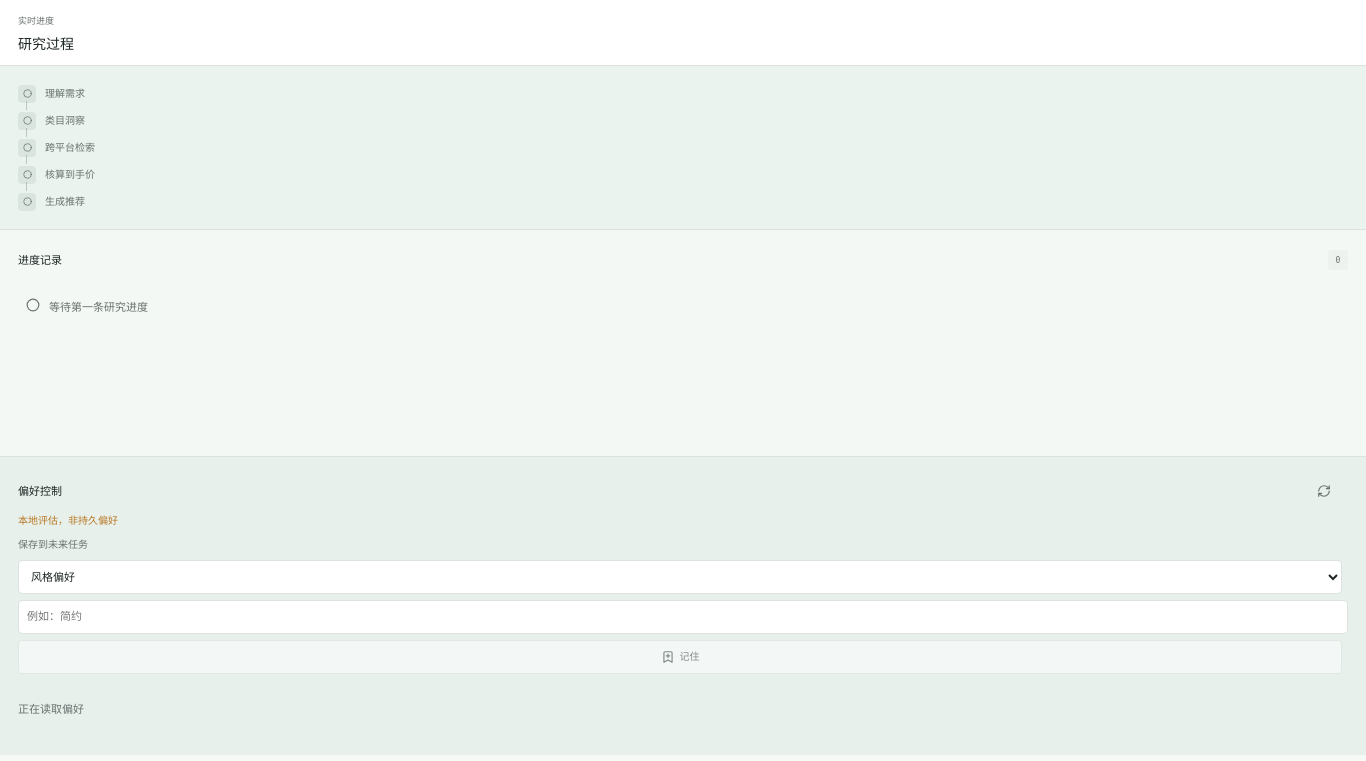
Test case: ActivityRail timeline › lets the shopper explicitly remember a preference and reports local durability
The width and height of the screenshot is (1366, 761).
Expected: the text "本地评估，非持久偏好" is shown, x1=18 y1=513 x2=118 y2=527
Type "简约" into the field named "偏好值". click: (683,617)
box: x1=18 y1=600 x2=1348 y2=634
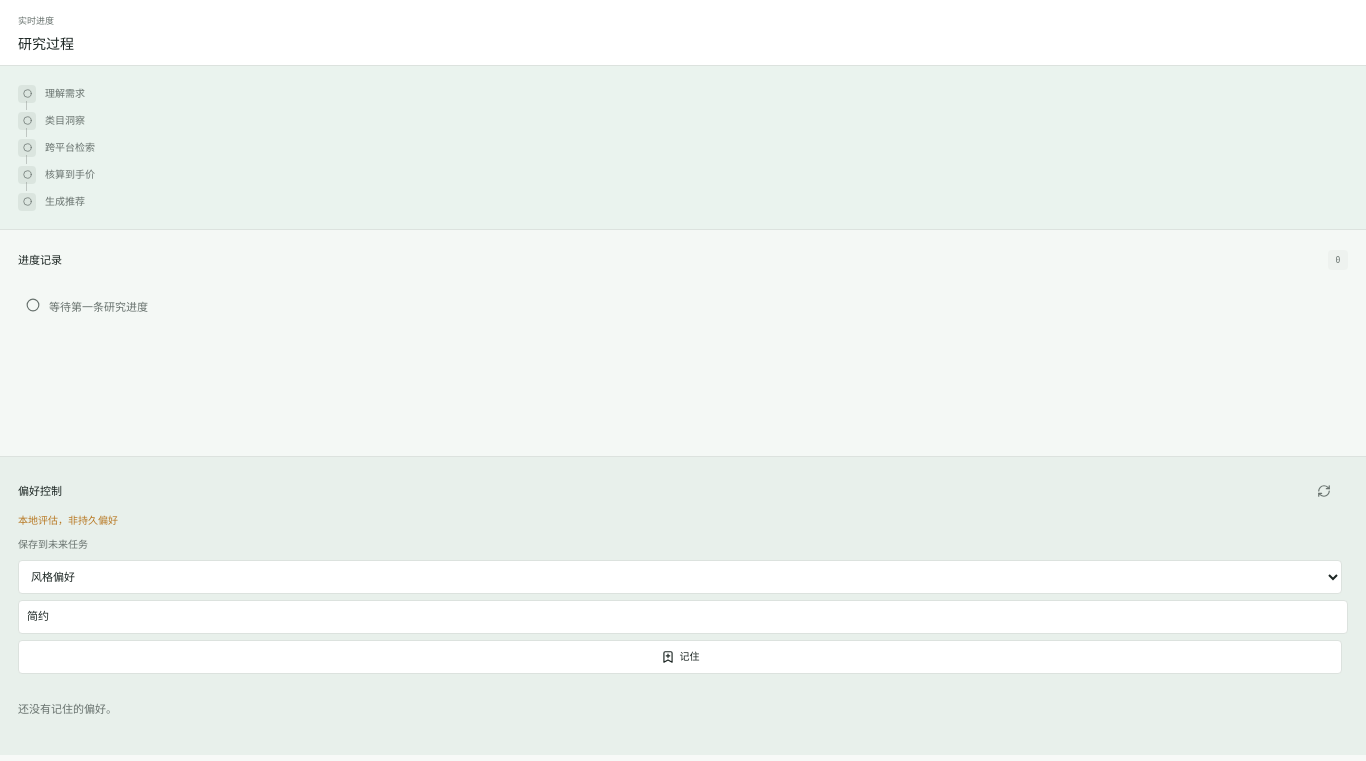
Click the button with aria-label "明确记住偏好". click: (680,657)
box: x1=18 y1=640 x2=1342 y2=674
(page scrolled)
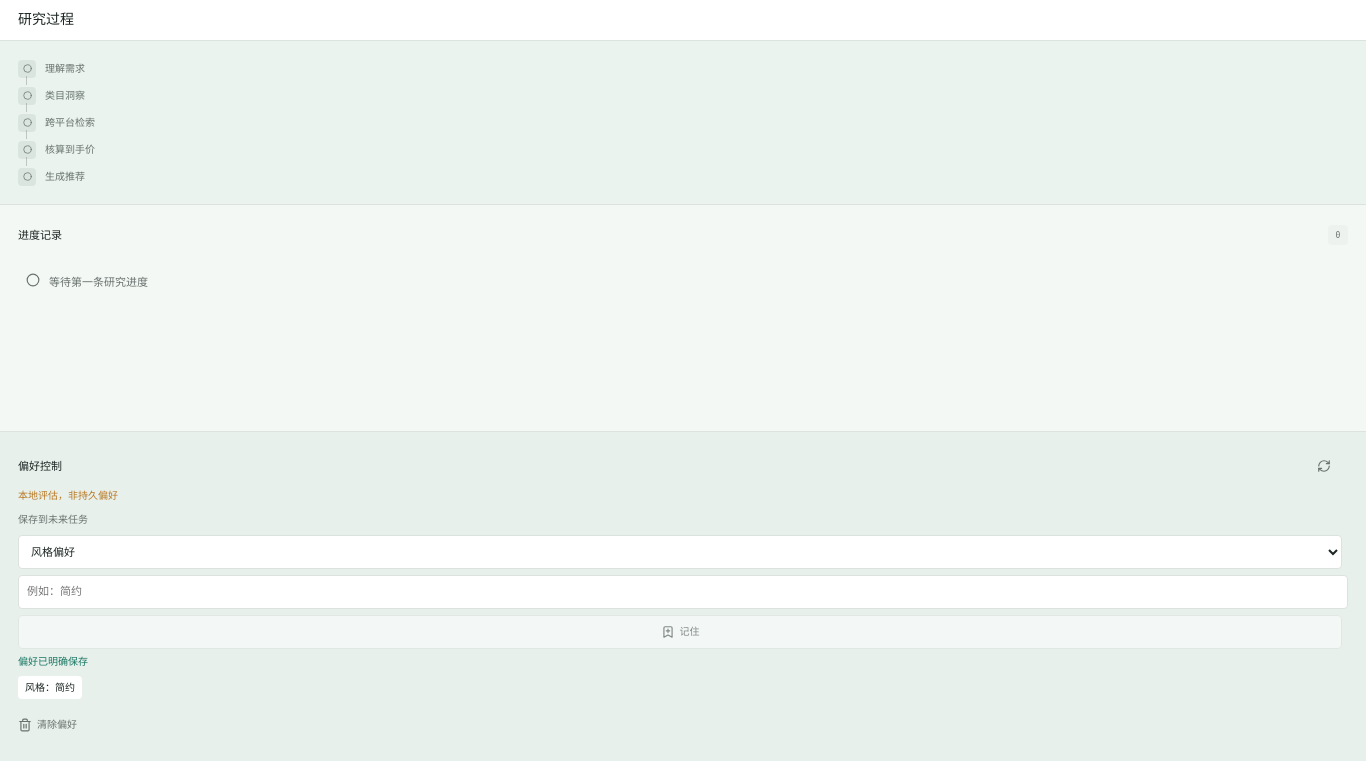
Now the text "偏好已明确保存" is shown, box x1=18 y1=654 x2=88 y2=668
Click the button "清除偏好". click: (48,725)
box: x1=18 y1=705 x2=77 y2=745
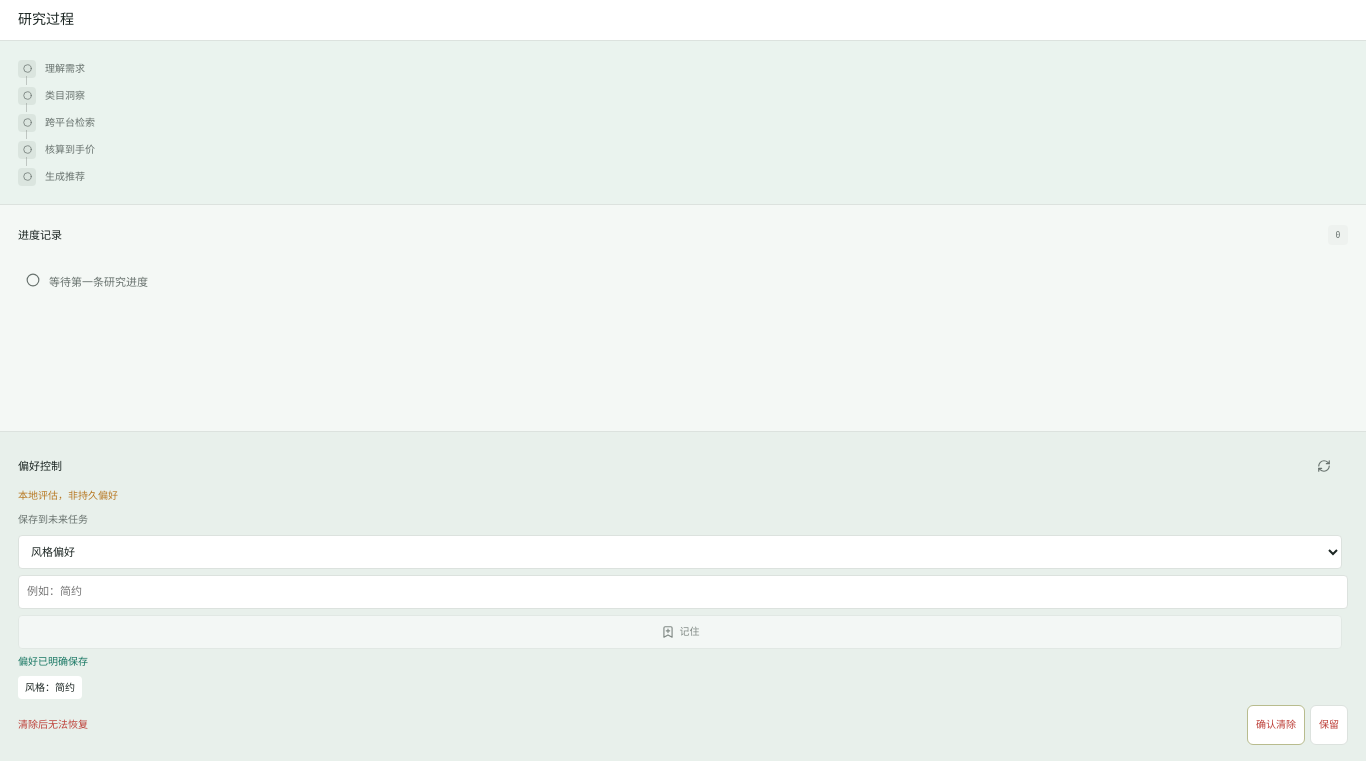
Click the button "确认清除". click: (1276,725)
box: x1=1247 y1=705 x2=1305 y2=745
(page scrolled)
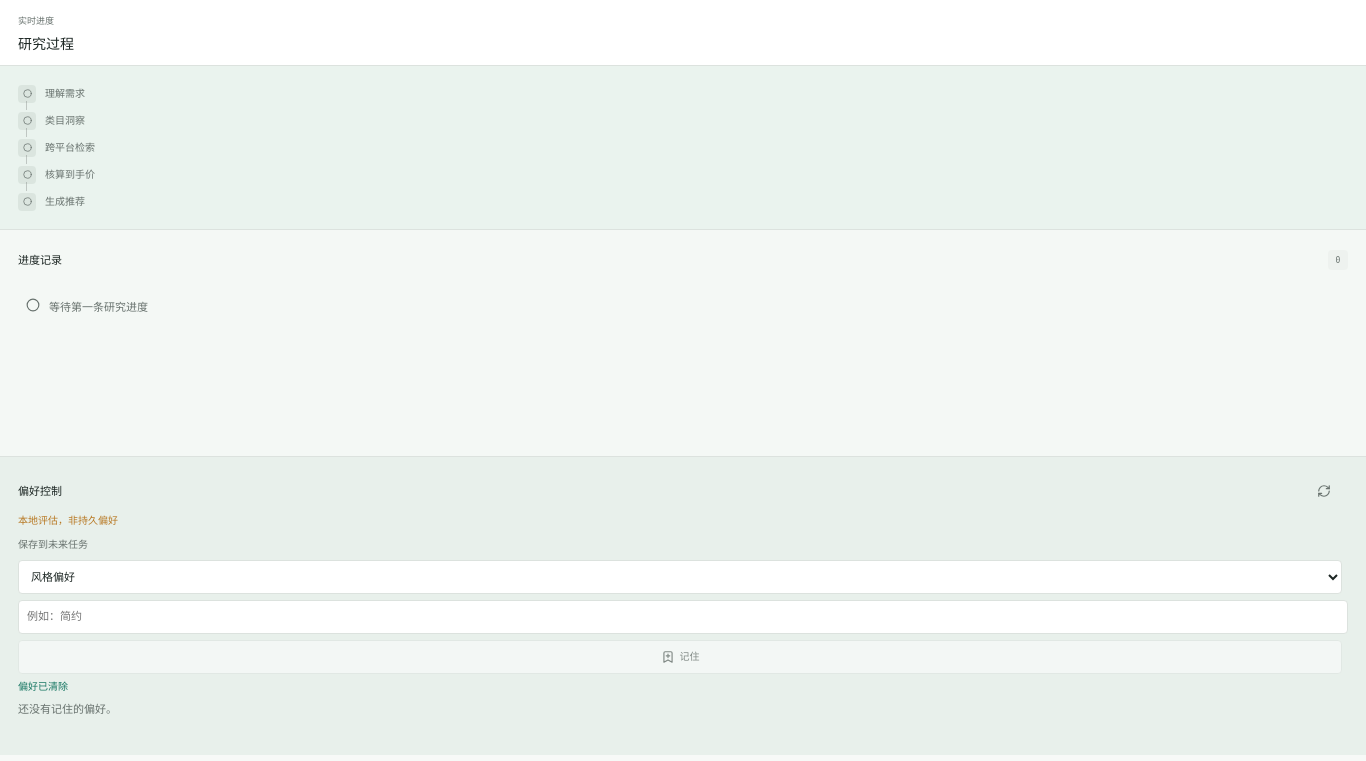
Now the text "偏好已清除" is shown, box x1=18 y1=679 x2=68 y2=693
